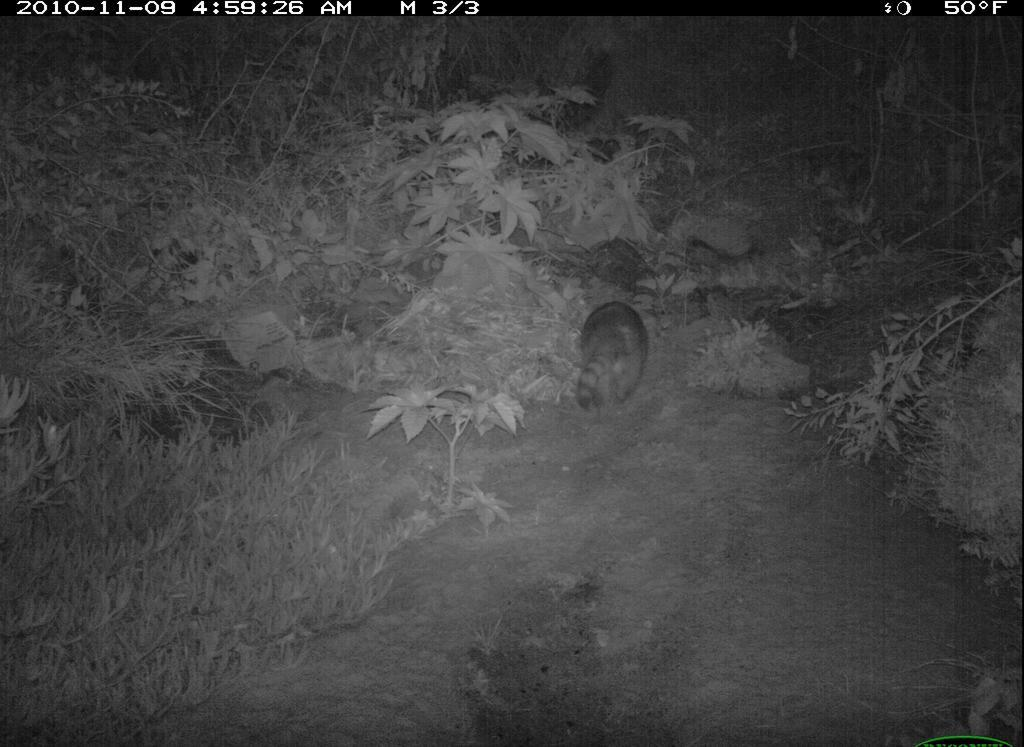raccoon: (570, 294, 653, 418)
